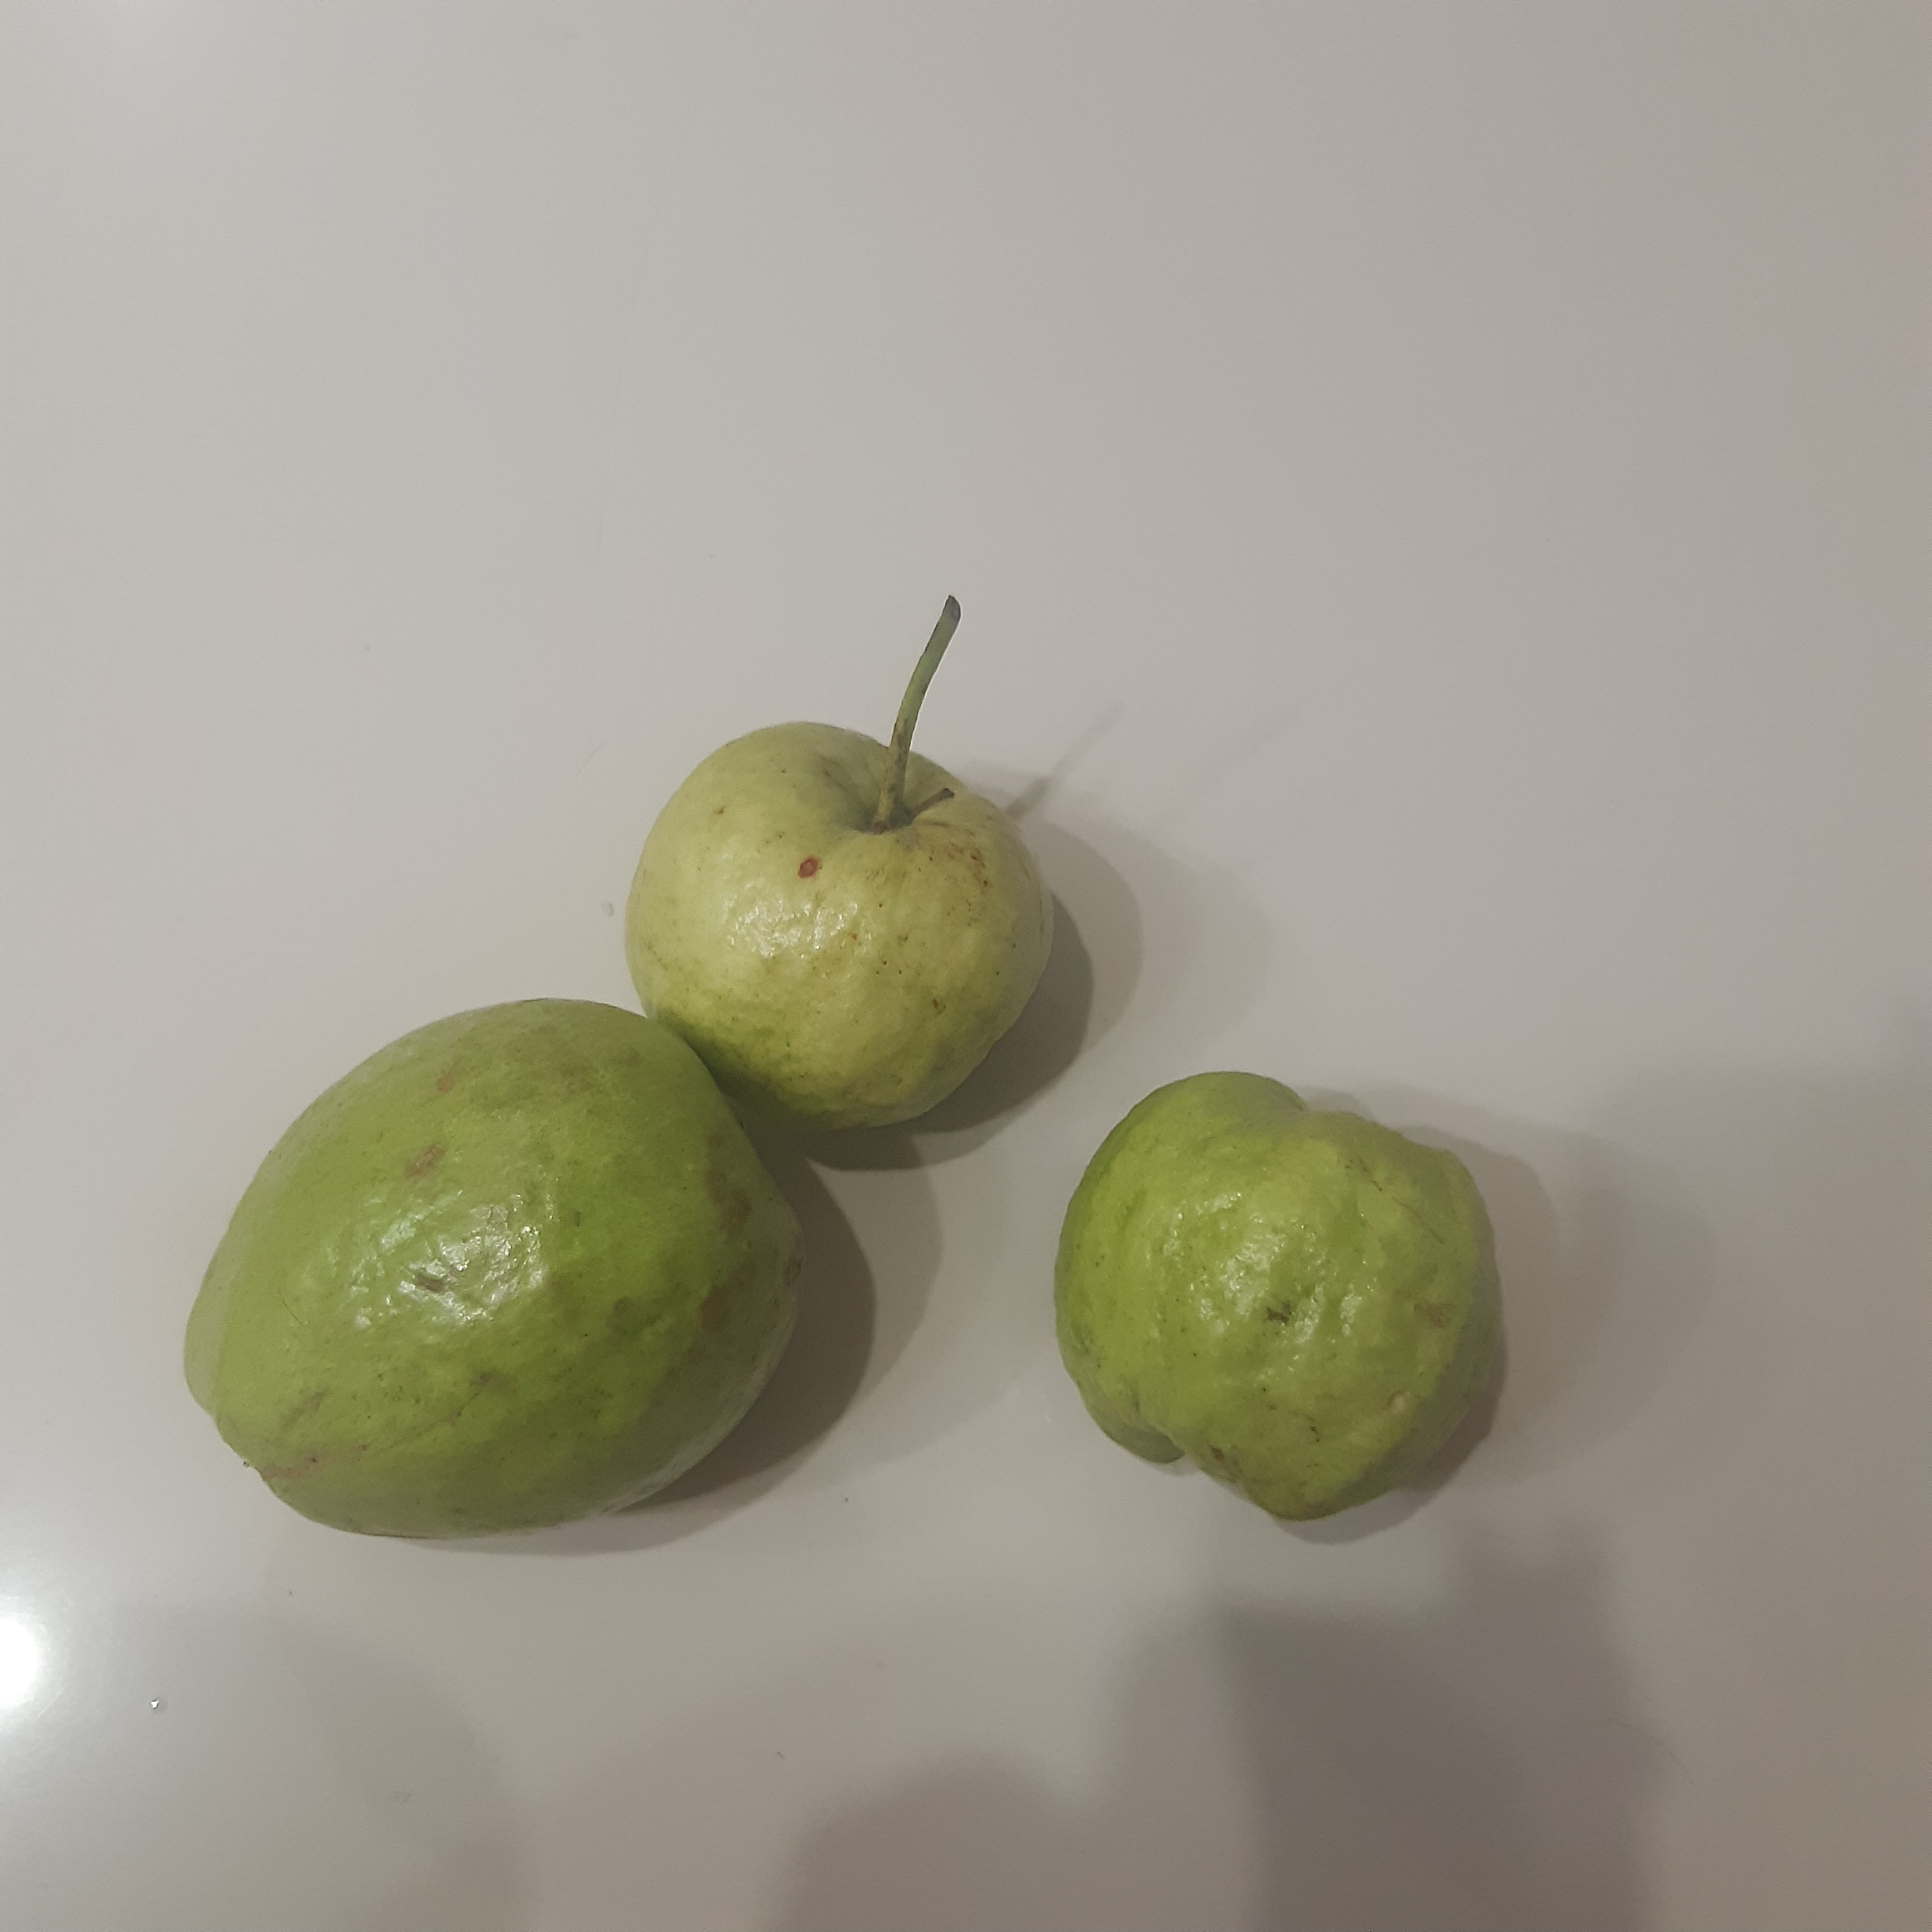Oi: (182, 998, 805, 1541), (1051, 1069, 1506, 1523), (623, 724, 1053, 1141)
